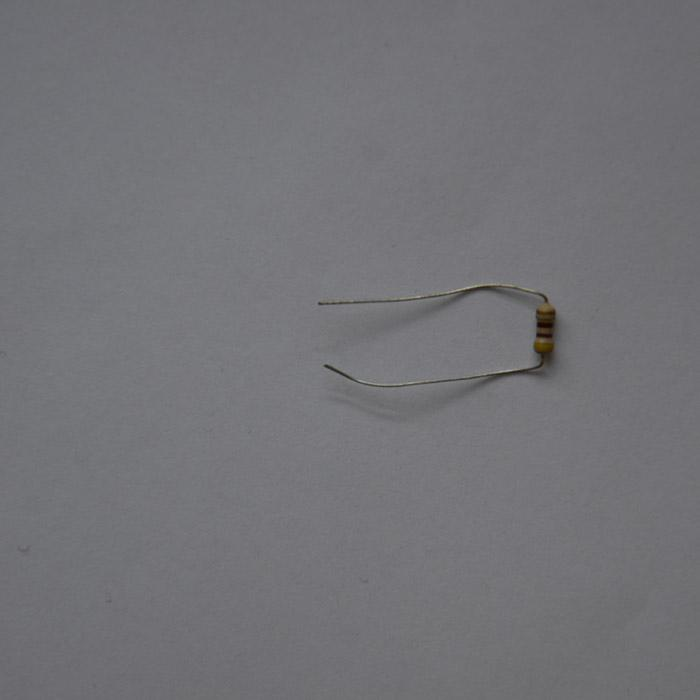resistor: (532, 302, 554, 354)
